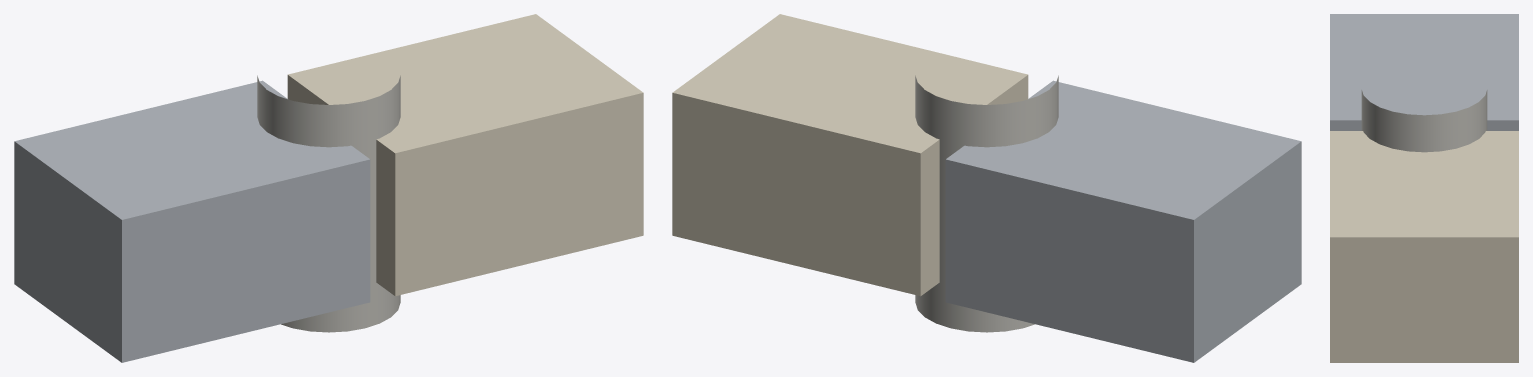
The model's file is job_k04_turbo_downpipe.glb.
The picture shows the model from 3 angles, left to right: view 1: azimuth 30°, elevation 25°; view 2: azimuth 150°, elevation 25°; view 3: azimuth 270°, elevation 25°; orthographic projection. The views are drawn at different scales.
Parts seen in each view (by area): view 1: node_tt03_k04_turbo, node_tt03_downpipe, node_tt03_exhaust_manifold; view 2: node_tt03_k04_turbo, node_tt03_downpipe, node_tt03_exhaust_manifold; view 3: node_tt03_downpipe, node_tt03_k04_turbo, node_tt03_exhaust_manifold.
Part boxes in pixels (bbox=[...]): node_tt03_k04_turbo: bbox=[14, 80, 370, 362]; node_tt03_downpipe: bbox=[287, 14, 643, 296]; node_tt03_exhaust_manifold: bbox=[257, 75, 400, 332]; node_tt03_k04_turbo: bbox=[945, 80, 1301, 362]; node_tt03_downpipe: bbox=[672, 14, 1028, 296]; node_tt03_exhaust_manifold: bbox=[915, 75, 1058, 332]; node_tt03_downpipe: bbox=[1330, 131, 1518, 362]; node_tt03_k04_turbo: bbox=[1330, 14, 1518, 130]; node_tt03_exhaust_manifold: bbox=[1361, 90, 1487, 152].
Size of the model in its own units: 0.84 by 0.35 by 0.3.
